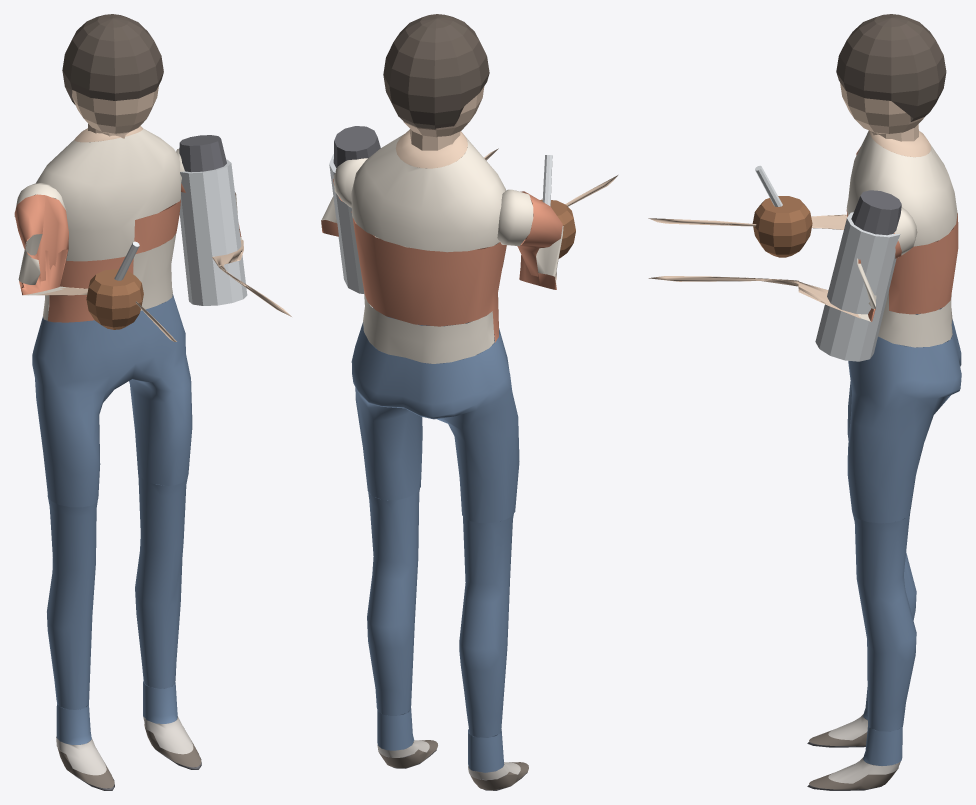
Rendered from rambla_pedestrian_1.glb.
The picture shows the model from 3 angles, left to right: view 1: azimuth 30°, elevation 25°; view 2: azimuth 150°, elevation 25°; view 3: azimuth 270°, elevation 25°; orthographic projection. The views are drawn at different scales.
Visible parts, largest first — view 1: rider_torso; view 2: rider_torso; view 3: rider_torso.
Part boxes in pixels (x1,y1,x2,y2): rider_torso: (14, 14, 291, 790); rider_torso: (321, 14, 617, 790); rider_torso: (648, 14, 961, 790).
Size of the model in its own units: 0.5432 by 1.7 by 0.6507.
